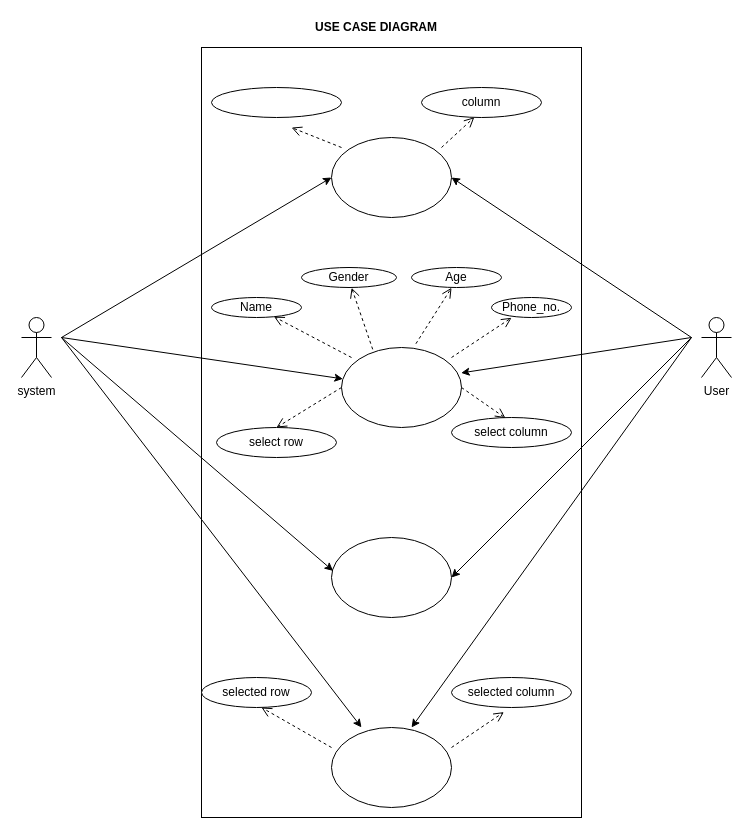
The diagram is 749 pixels wide and 835 high, and some of its shapes have lost their labels. The shapes that lost their labels are listed below. From the top down, each one's centre as x and y in pixels, then its label:
At pixel 276 102: "row".
At pixel 391 177: "show seat".
At pixel 401 387: "book_ticket".
At pixel 391 577: "statistics".
At pixel 391 767: "booked ticket user info".
